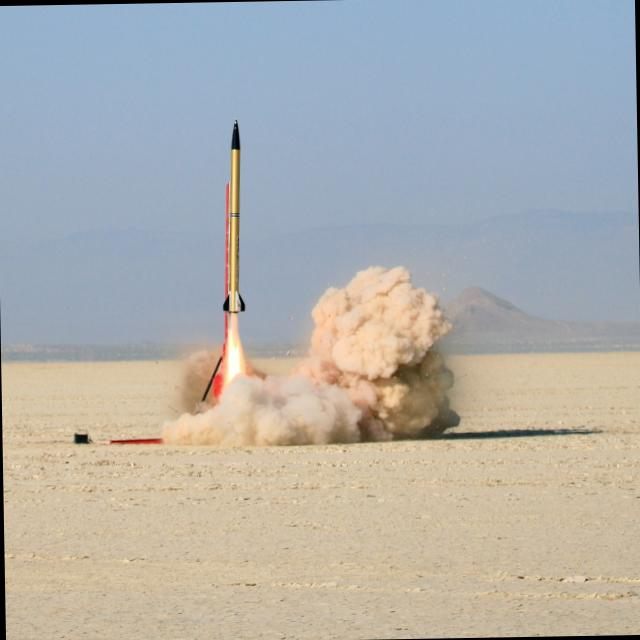rocket: (210, 111, 247, 402)
